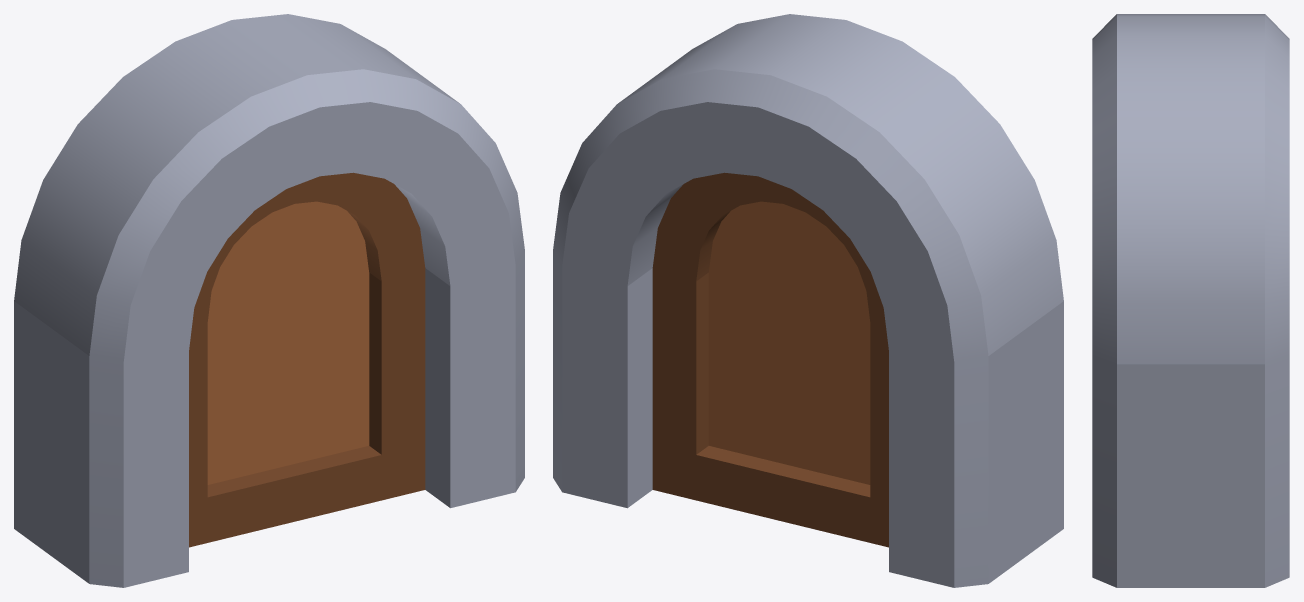
Rendered from doorLarge.glb.
The picture shows the model from 3 angles, left to right: view 1: azimuth 30°, elevation 25°; view 2: azimuth 150°, elevation 25°; view 3: azimuth 270°, elevation 25°; orthographic projection.
Parts seen in each view (by area): view 1: doorLarge, doorLargeClosed; view 2: doorLarge, doorLargeClosed; view 3: doorLarge.
Boxes of the visible parts, bbox=[...] form: doorLarge: bbox=[14, 14, 524, 587]; doorLargeClosed: bbox=[189, 172, 425, 547]; doorLarge: bbox=[553, 14, 1063, 587]; doorLargeClosed: bbox=[652, 172, 888, 547]; doorLarge: bbox=[1092, 14, 1289, 587].
Bounding box in the file's own units: 1 × 1 × 0.4.
